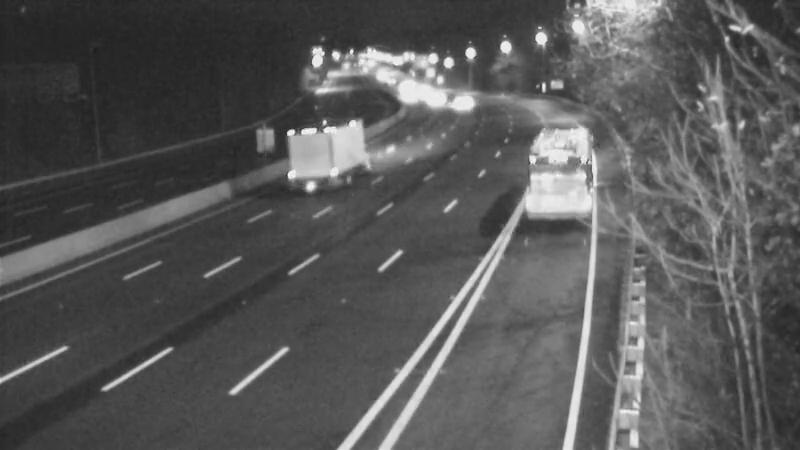vehicle: (504, 123, 584, 203), (384, 69, 434, 119), (407, 71, 457, 121), (433, 77, 483, 127), (311, 116, 361, 166)
